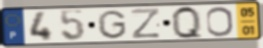4: (28, 10, 56, 43)
5: (57, 9, 88, 43)
G: (96, 9, 128, 40)
O: (205, 5, 236, 38)
Q: (170, 5, 205, 41)
Z: (130, 7, 163, 41)
